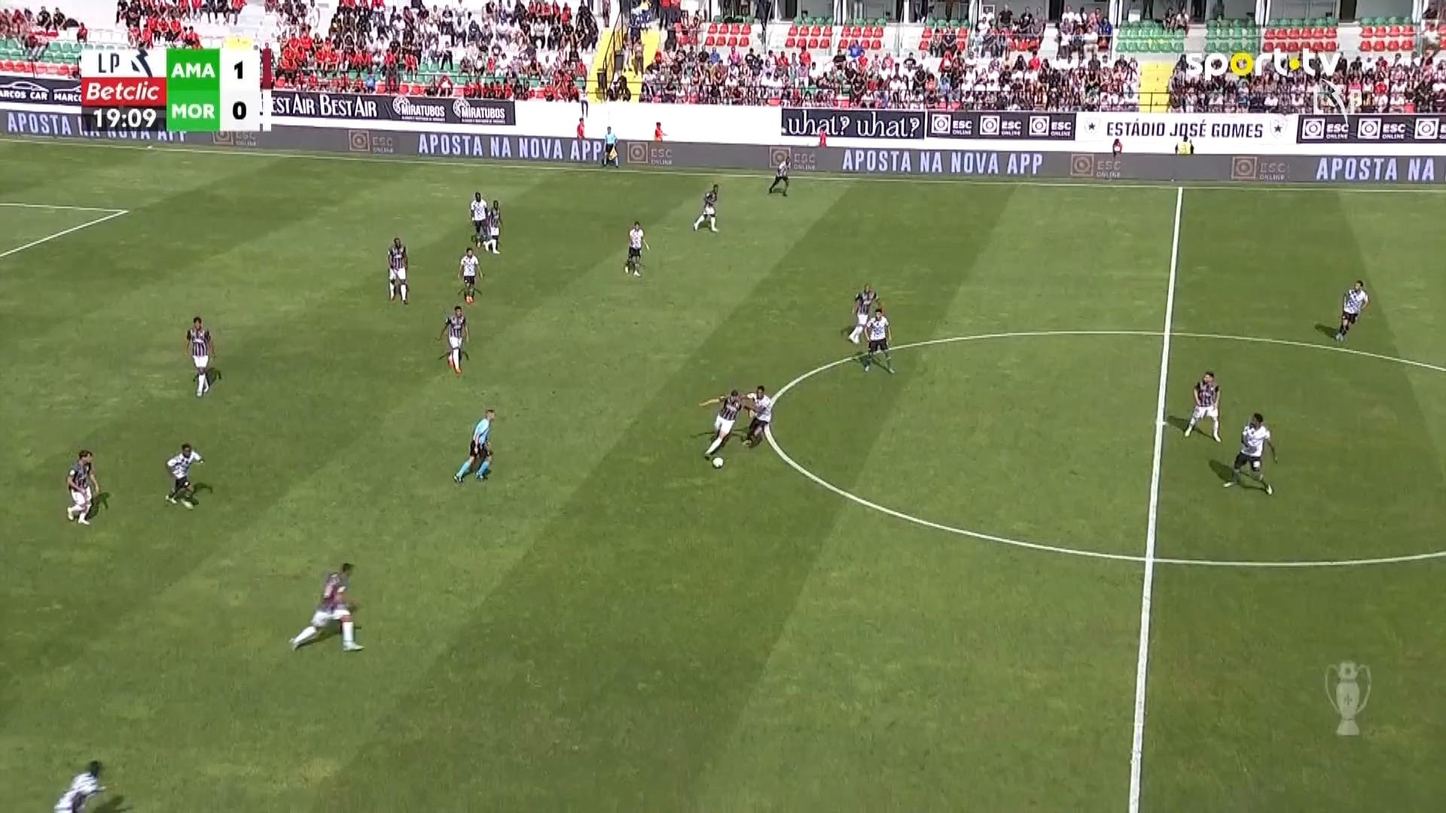ball: (712, 456, 723, 468)
player: (288, 562, 364, 653), (1223, 412, 1277, 495), (53, 758, 124, 811), (698, 388, 743, 459), (1182, 370, 1222, 442), (65, 449, 99, 525), (164, 443, 204, 507), (185, 315, 215, 397), (437, 305, 469, 375), (862, 307, 895, 374), (1333, 279, 1368, 341), (741, 385, 773, 448), (847, 282, 878, 344), (386, 236, 410, 304), (457, 246, 483, 304), (623, 220, 648, 276), (692, 183, 719, 233), (468, 190, 488, 247), (483, 198, 503, 254), (767, 155, 790, 196)
referee: (452, 407, 496, 484), (599, 125, 619, 168)
